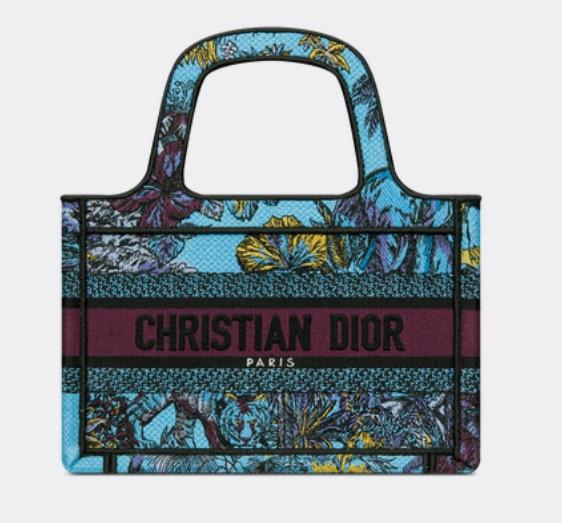DIOR: (124, 282, 414, 376)
